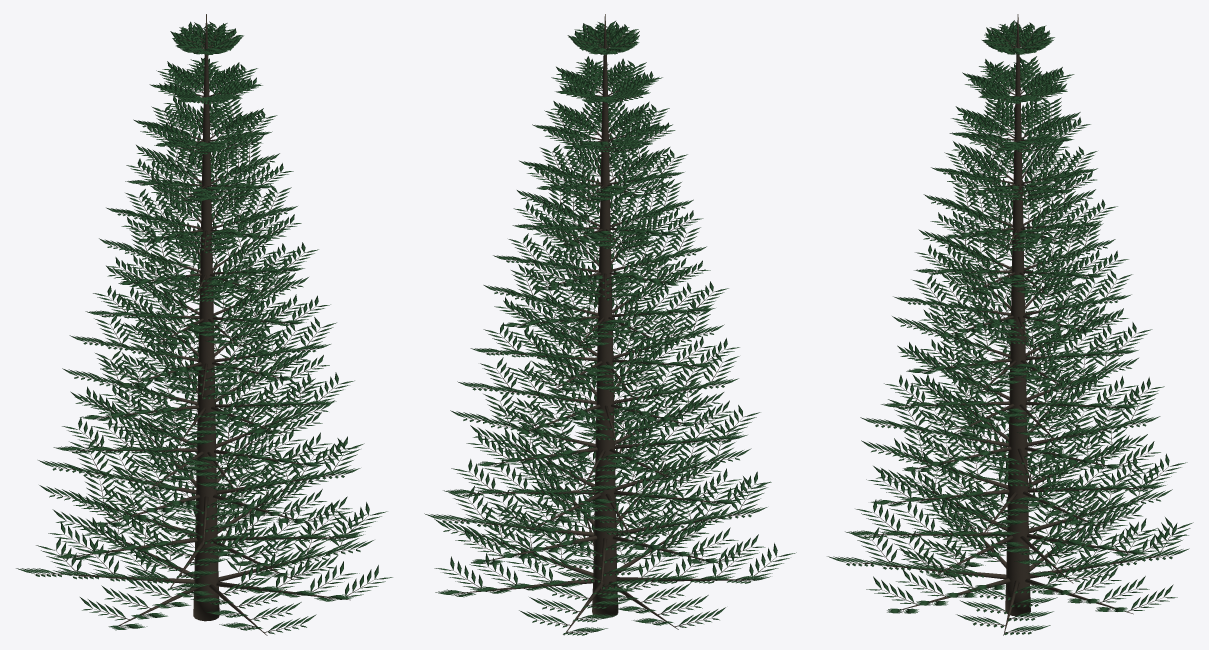
File: hq_conifer_cc0_lod0.glb
3 renders of one model, left to right at view 1: azimuth 30°, elevation 25°; view 2: azimuth 150°, elevation 25°; view 3: azimuth 270°, elevation 25°, orthographic.
Visible parts, largest first — view 1: Closed conifer needle sprays, Fine connected conifer branchlets, Tapered evergreen trunk; view 2: Closed conifer needle sprays, Fine connected conifer branchlets, Tapered evergreen trunk; view 3: Closed conifer needle sprays, Fine connected conifer branchlets, Tapered evergreen trunk.
Part boxes in pixels (<box>): Closed conifer needle sprays: <box>16,21,392,634</box>; Fine connected conifer branchlets: <box>34,28,376,632</box>; Tapered evergreen trunk: <box>193,14,219,621</box>; Closed conifer needle sprays: <box>424,21,796,635</box>; Fine connected conifer branchlets: <box>443,27,776,633</box>; Tapered evergreen trunk: <box>592,14,618,617</box>; Closed conifer needle sprays: <box>827,20,1193,634</box>; Fine connected conifer branchlets: <box>848,28,1173,632</box>; Tapered evergreen trunk: <box>1005,14,1030,616</box>.
Bounding box in the file's own units: 9.06 × 16 × 8.96.
2 materials, 2 textured.
